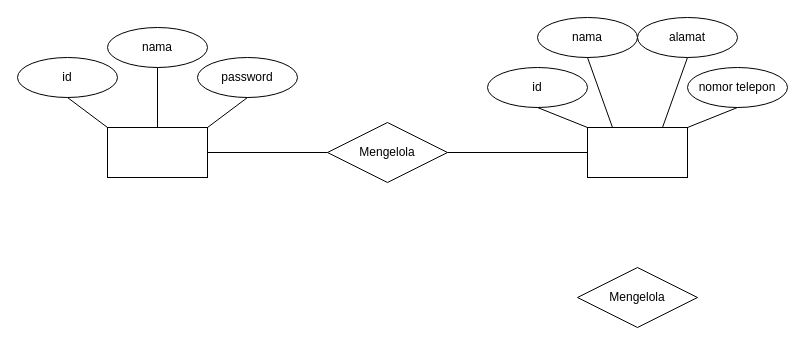
The diagram is 805 pixels wide and 345 high, and some of its shapes have lost their labels. Here are the shapes that lost their labels. From the top down, the centre of each, then its label:
(157,152): Admin
(637,152): Pelanggan
